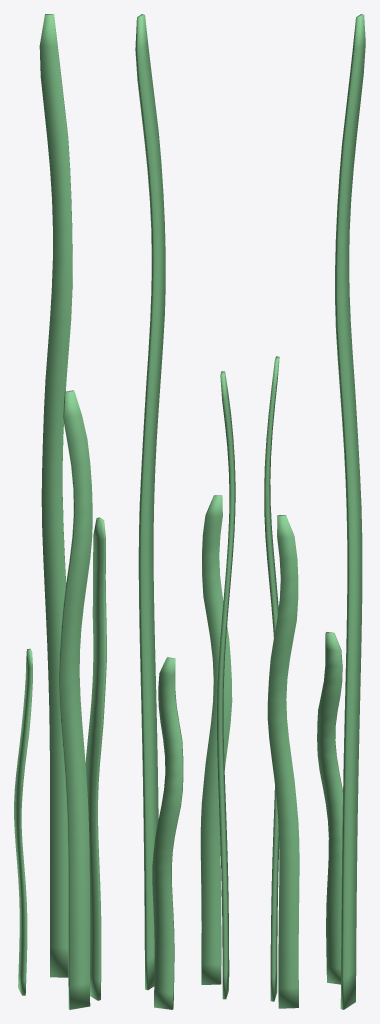
File: Large4.fbx
3 views of the same model, side by side, from view 1: azimuth 90°, elevation 25°; view 2: azimuth 150°, elevation 25°; view 3: azimuth 330°, elevation 25° (orthographic). The views are drawn at different scales.
Parts seen in each view (by area): view 1: Large4_EXPORT; view 2: Large4_EXPORT; view 3: Large4_EXPORT.
Boxes of the visible parts, left/top/right/bottom form: Large4_EXPORT: left=14, top=14, right=106, bottom=1009; Large4_EXPORT: left=135, top=14, right=235, bottom=1009; Large4_EXPORT: left=264, top=14, right=365, bottom=1009.
Bounding box in the file's own units: 1.29 × 14.69 × 1.29.
